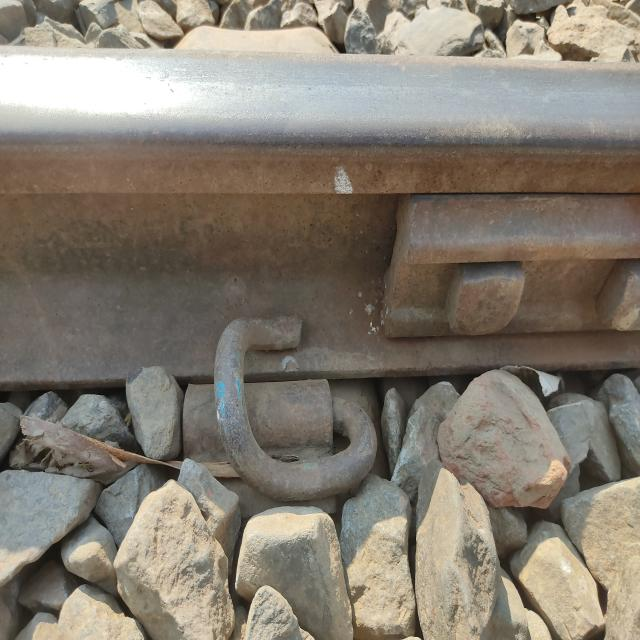No Fault: (190, 309, 373, 510)
